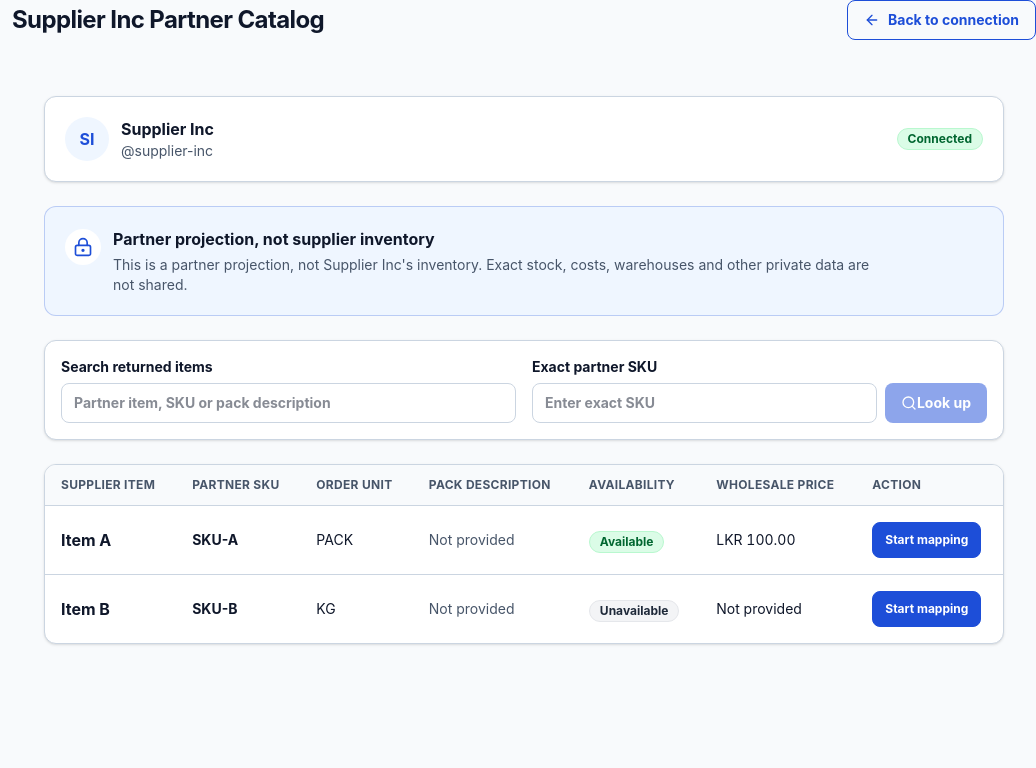
Test case: BuyerPartnerCatalogScreen › filters results locally without making another callable request
In the search field labelled "Search returned items": (288, 403) [61,383,516,423], type "Item B"
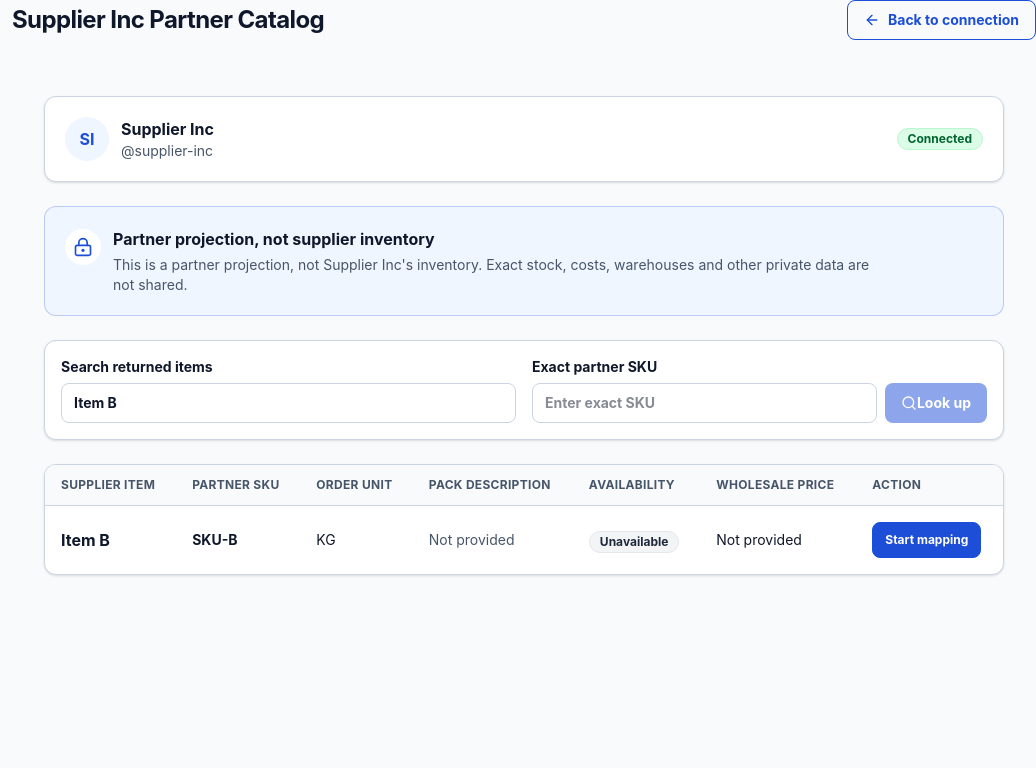
Check: the text "Item A" is not shown
Check: the text "Item B" is shown 2 times
